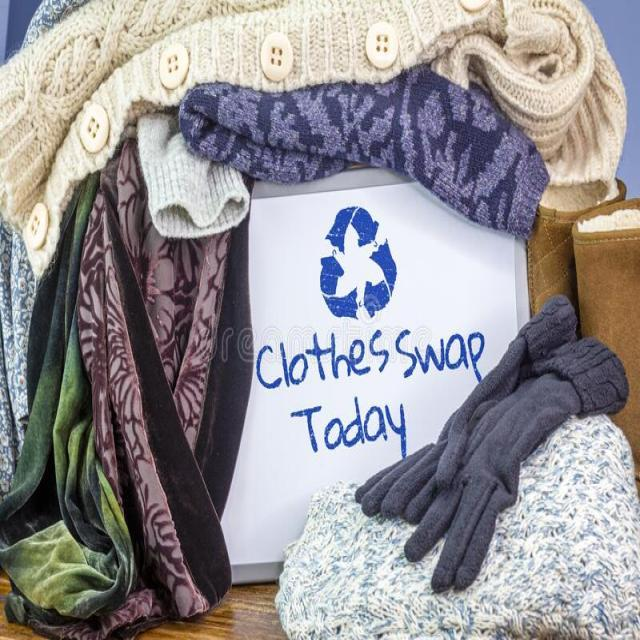clothes: (7, 13, 258, 640), (0, 0, 640, 244), (289, 303, 640, 640)
